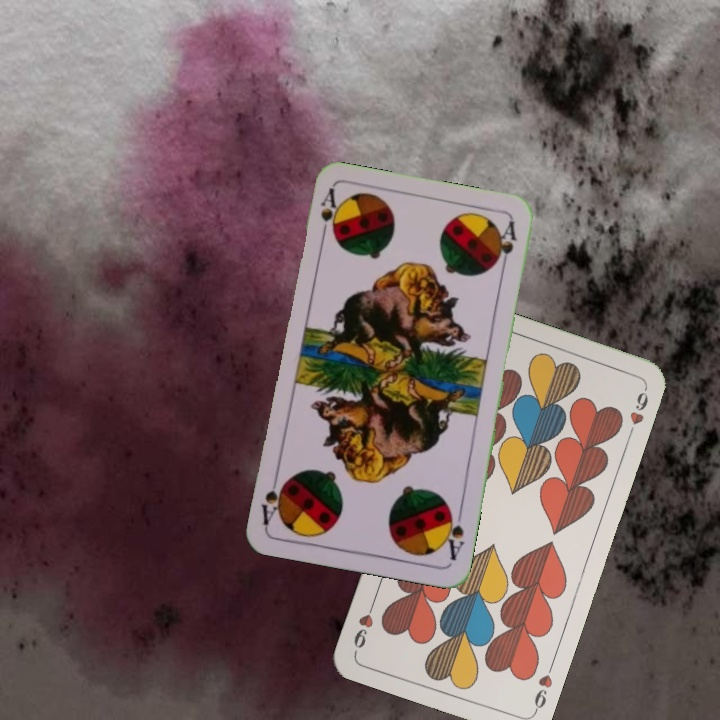H9: (530, 659, 557, 716)
SA: (439, 503, 467, 563), (316, 185, 341, 244)
